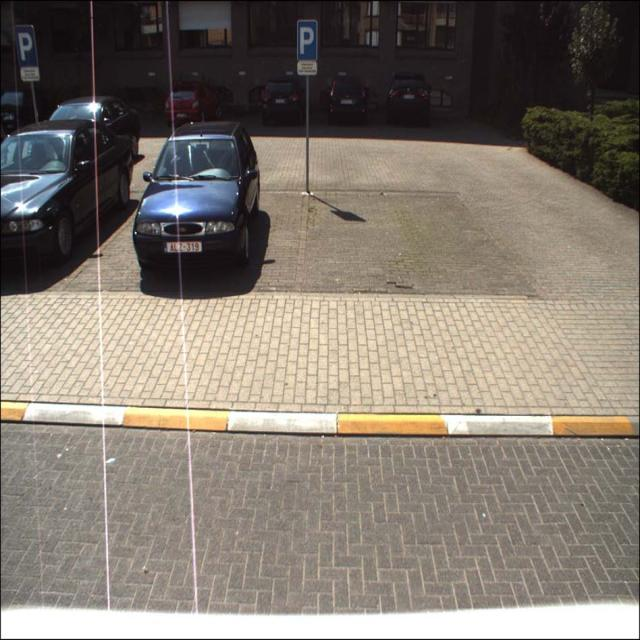park: (14, 24, 37, 68), (296, 18, 318, 61)
